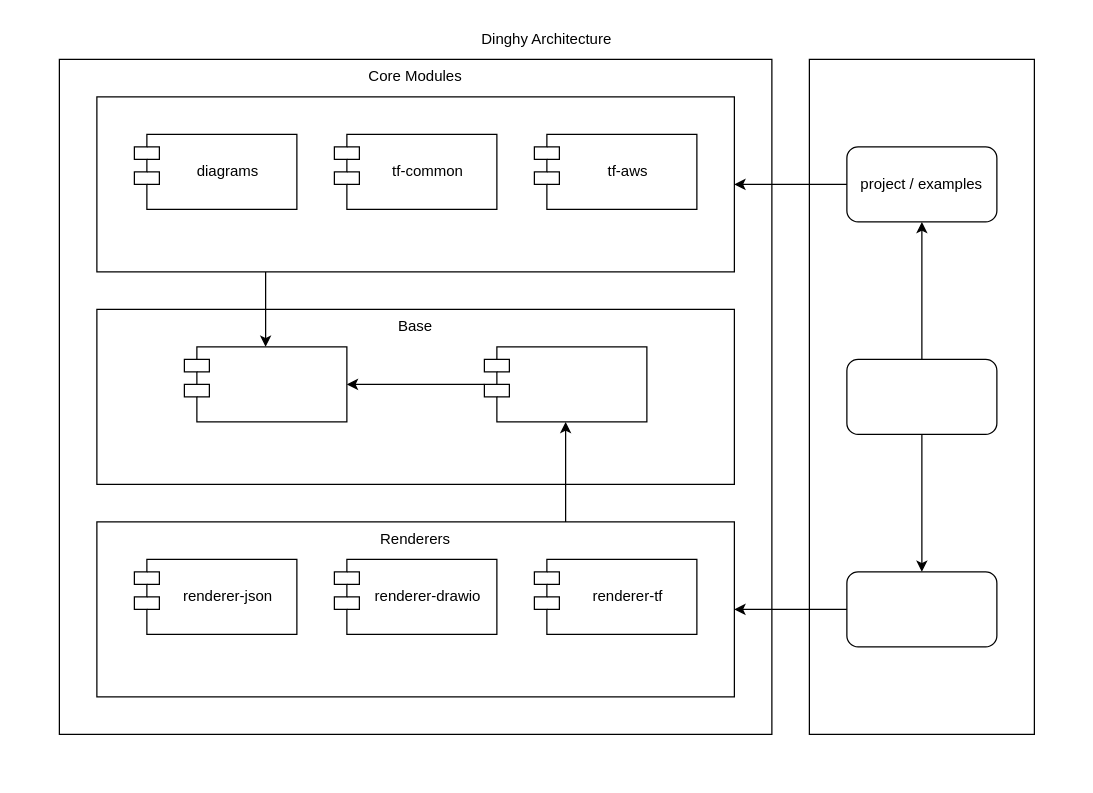
Image size: 1093x793. Some labels were removed from this diagram. The box of each missing label's shape, as (x1, y1, x2, y2) in pixels:
base-components: (183, 346, 347, 422)
base-renderer: (483, 346, 647, 422)
cli: (846, 358, 997, 434)
engine: (846, 571, 997, 647)
Projects: (808, 58, 1034, 734)
Standard Components: (96, 96, 734, 272)
